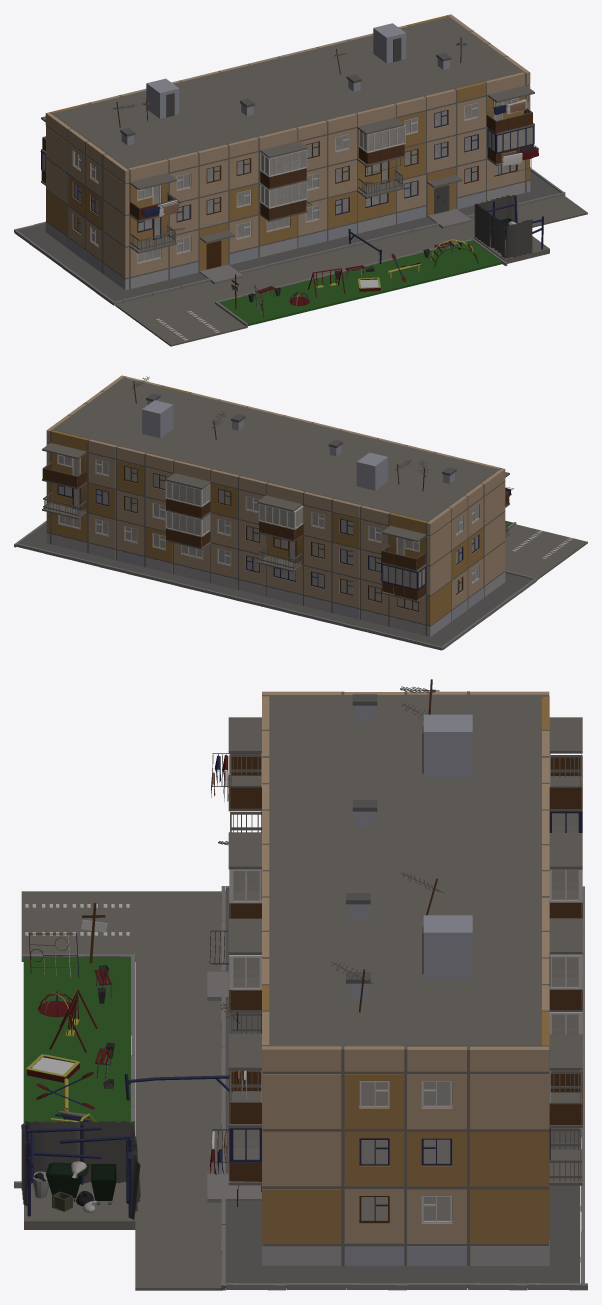
File: HomeWork5_3_3.fbx
3 views of the same model, one above another, from view 1: azimuth 30°, elevation 25°; view 2: azimuth 150°, elevation 25°; view 3: azimuth 270°, elevation 25° (orthographic). The views are drawn at different scales.
Visible parts, largest first — view 1: pCube157, pPlane18; view 2: pCube157, pPlane18; view 3: pCube157, pPlane18.
Part boxes in pixels (x1,y1,x2,y2): pCube157: [40, 14, 534, 290]; pPlane18: [14, 37, 587, 346]; pCube157: [42, 375, 509, 636]; pPlane18: [14, 376, 587, 650]; pCube157: [228, 691, 582, 1265]; pPlane18: [14, 679, 587, 1290].
Bounding box in the file's own units: 24.36 × 8.31 × 14.77.
26 materials, 1 textured.
